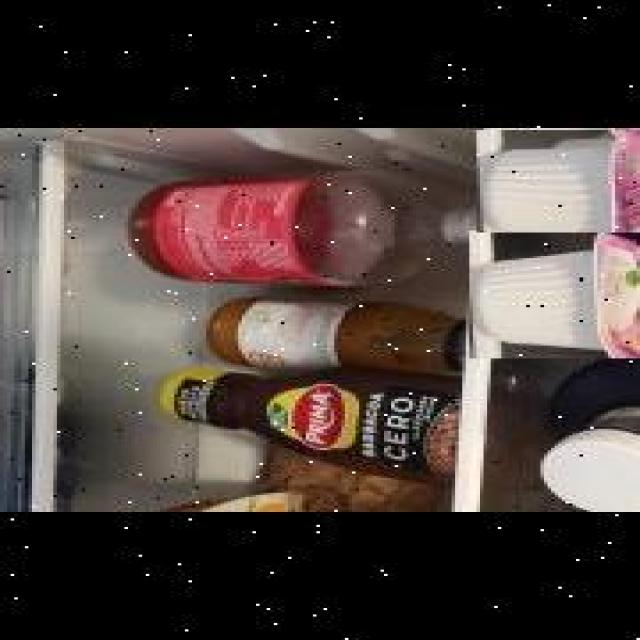cheese: (466, 230, 640, 358), (473, 130, 640, 233)
